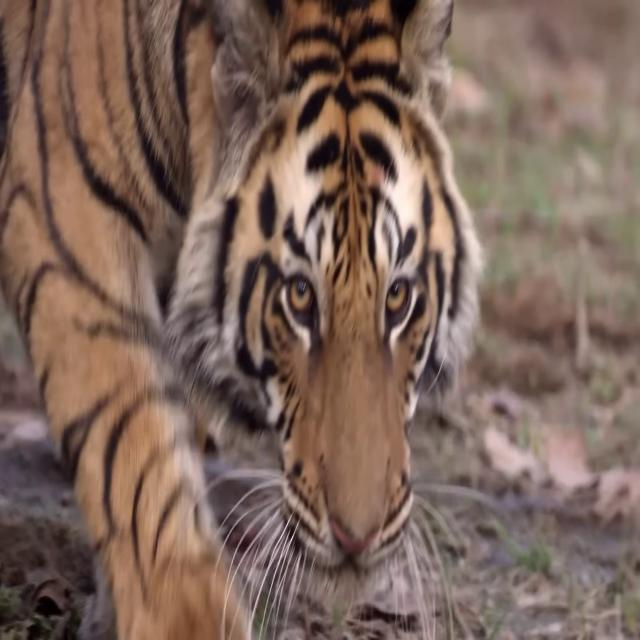tiger: (0, 0, 482, 640)
